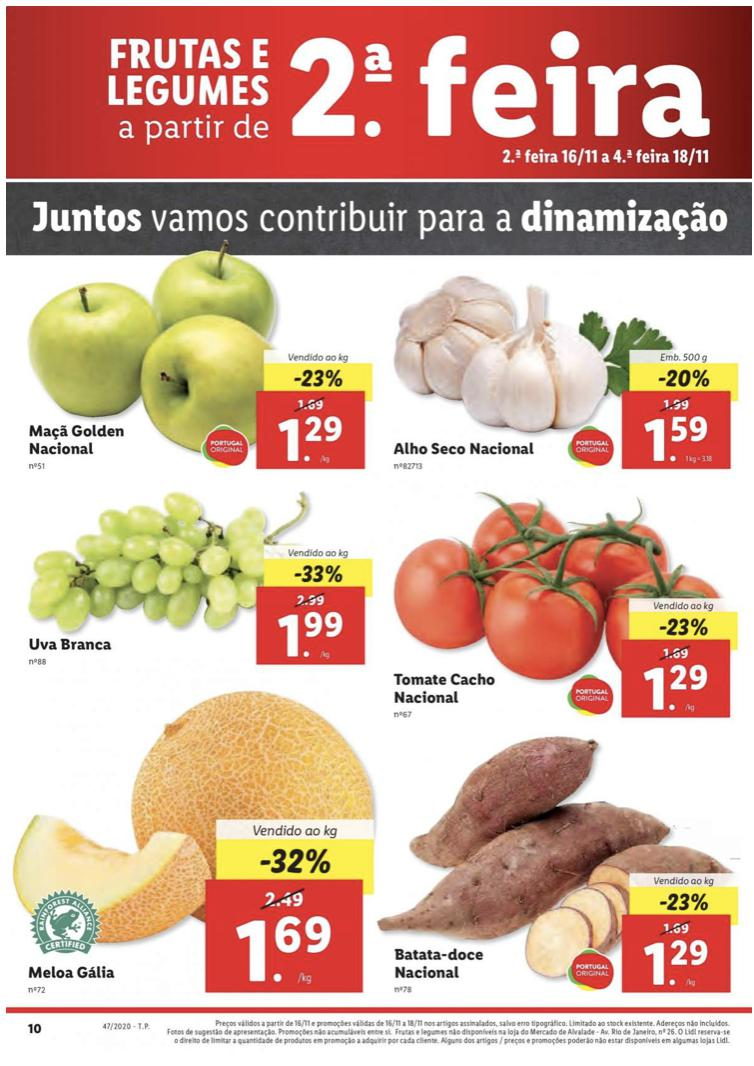name: (23, 417, 133, 458), (392, 666, 496, 707), (390, 942, 494, 982), (394, 439, 537, 459), (23, 962, 120, 983), (23, 634, 115, 655)
price: (232, 912, 333, 987), (642, 412, 711, 467), (639, 937, 711, 989), (278, 608, 346, 662), (275, 413, 345, 464), (645, 663, 710, 712)
product: (3, 674, 377, 1005), (377, 733, 736, 1012), (1, 255, 378, 480), (374, 497, 742, 726), (386, 272, 746, 483), (7, 489, 377, 674)
promotion: (256, 845, 337, 878), (653, 889, 714, 916), (291, 364, 346, 391), (292, 562, 346, 588), (657, 367, 712, 392), (656, 616, 711, 641)
